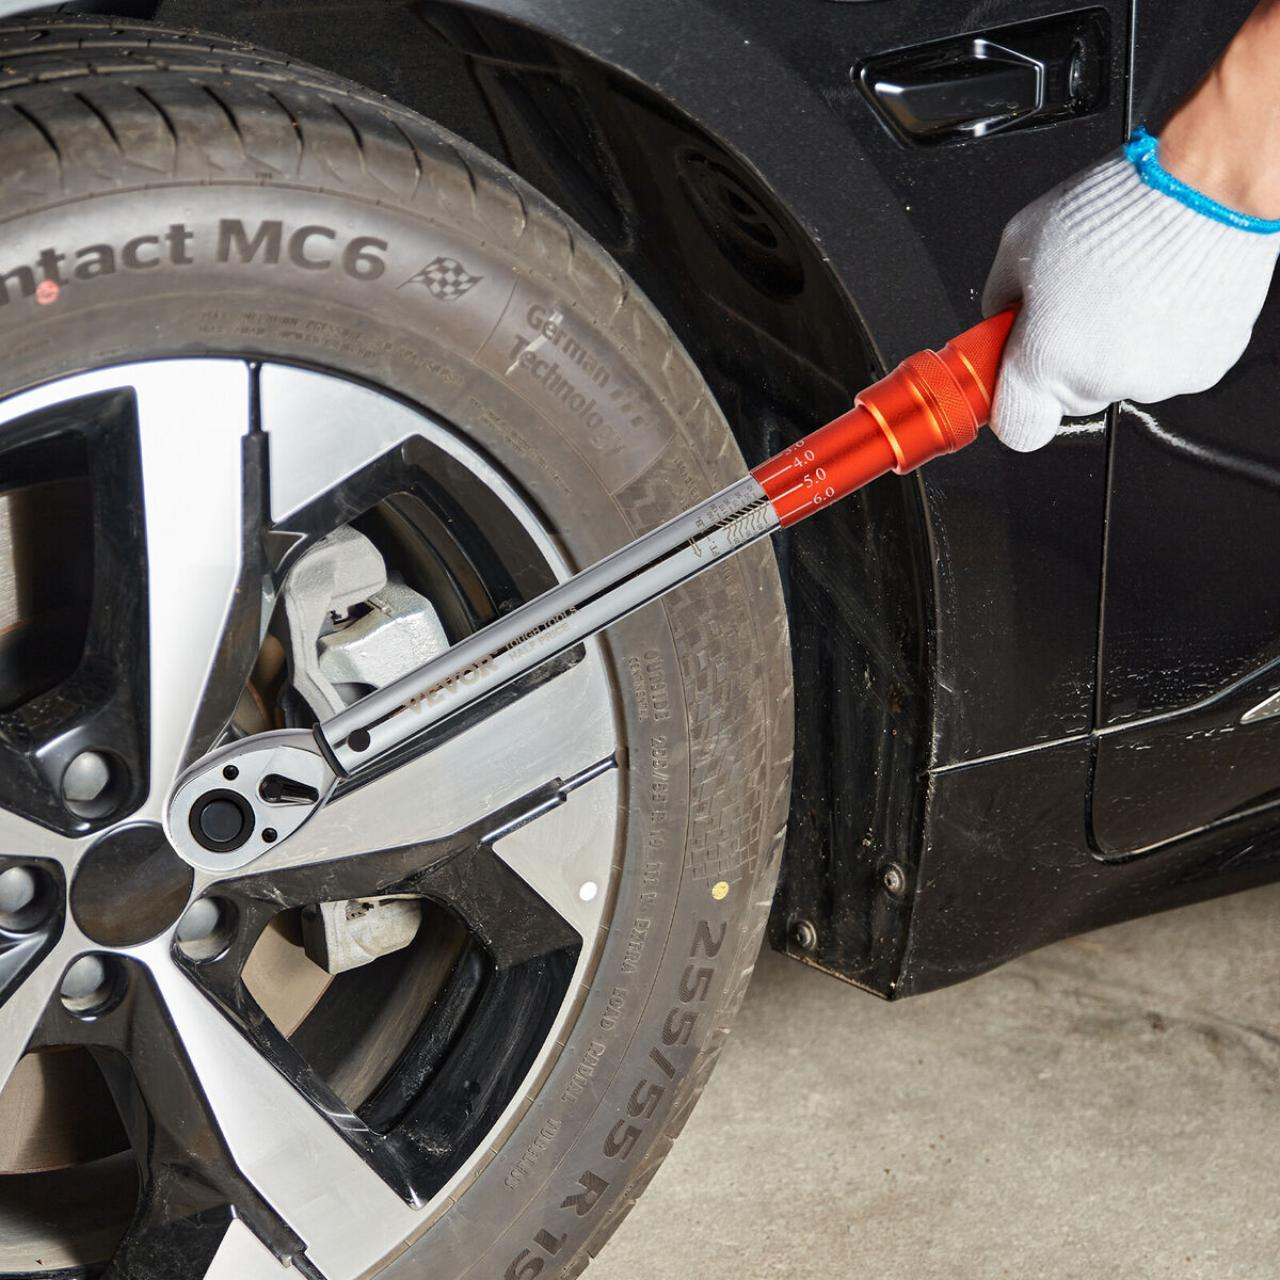Tool: (158, 726, 348, 880)
